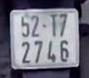2: (19, 40, 32, 65), (31, 14, 41, 38)
4: (46, 38, 58, 65)
5: (19, 11, 31, 39)
6: (59, 39, 70, 65)
7: (33, 39, 44, 63), (59, 12, 69, 38)
T: (47, 13, 58, 37)
